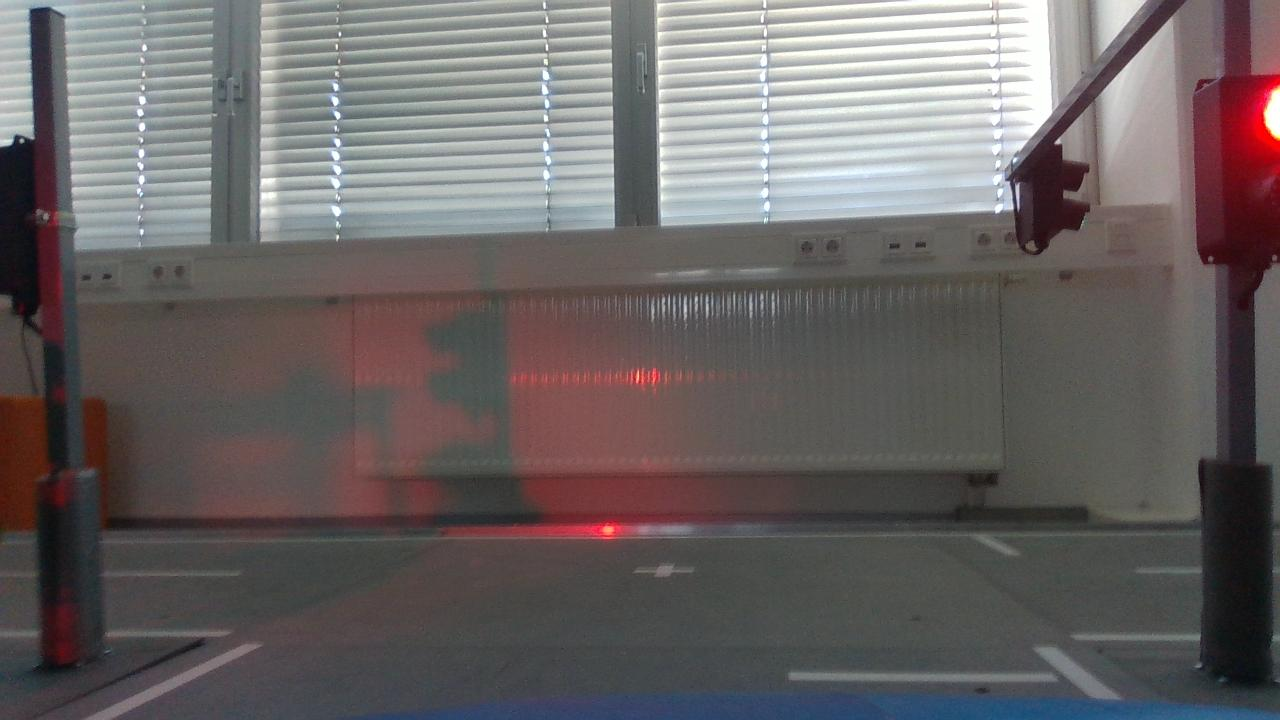traffic_light_red: (1179, 53, 1280, 276)
